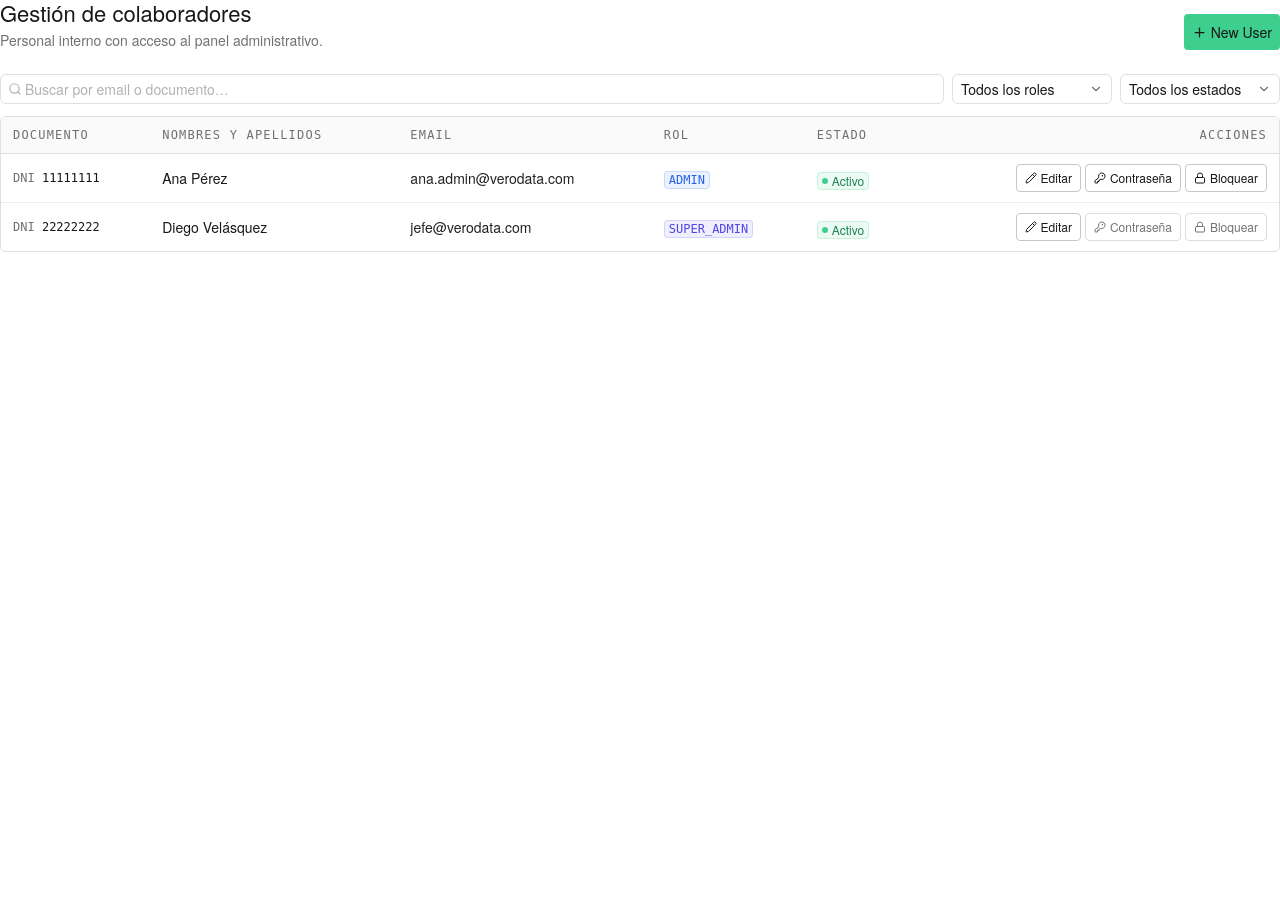
Test: UsersPage — cambio de contraseña › exige la política mínima de contraseña
Expected: the text "ana.admin@verodata.com" is shown, x1=398 y1=154 x2=652 y2=203
Click the button "Contraseña" in the row of "11111111" at (1133, 178), box x1=1085 y1=164 x2=1181 y2=192
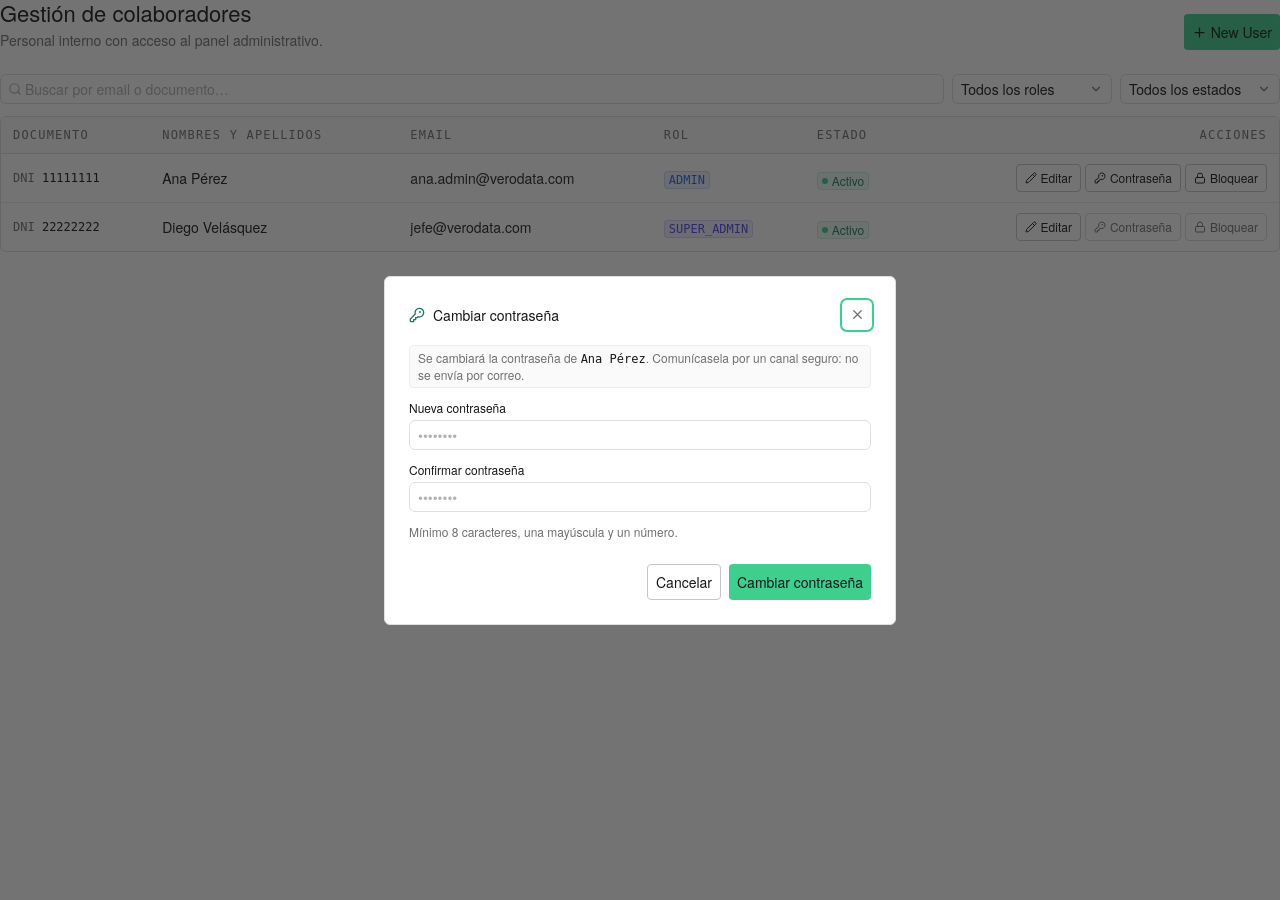
Type "debil" into the password field labelled "Nueva contraseña" at (640, 434), box x1=409 y1=420 x2=871 y2=450
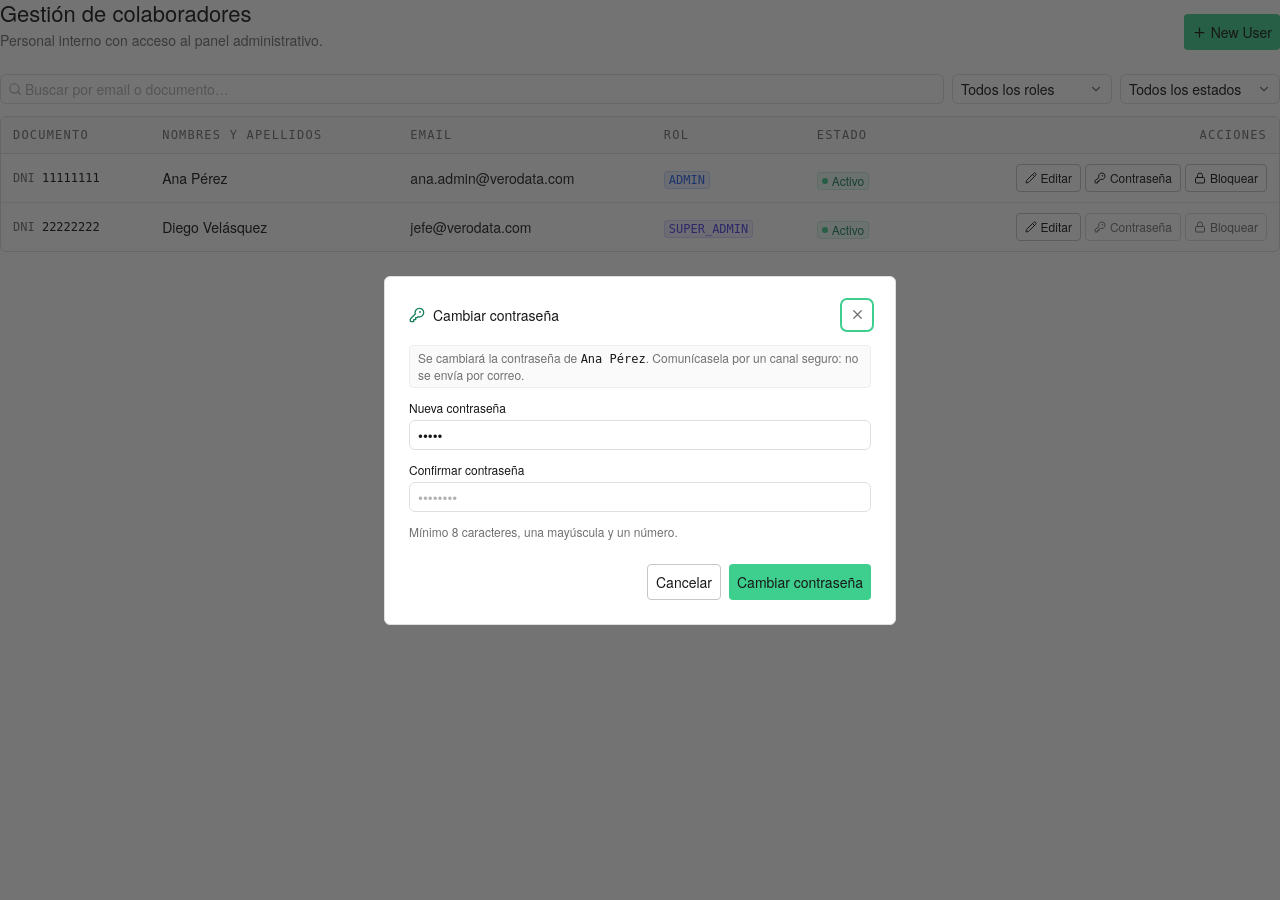
Type "debil" into the password field labelled "Confirmar contraseña" at (640, 496), box x1=409 y1=482 x2=871 y2=512
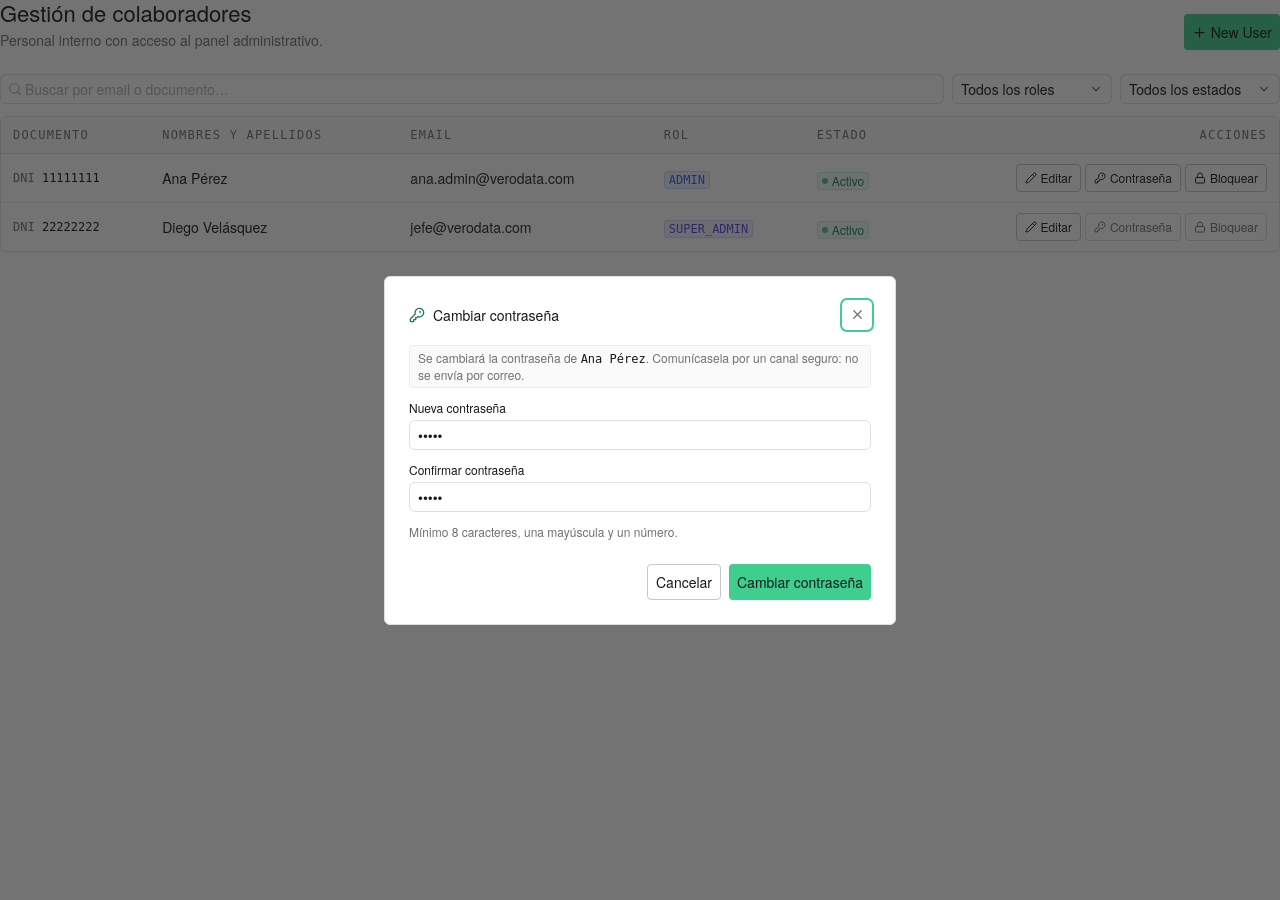
Click the button "Cambiar contraseña" at (800, 582), box x1=729 y1=564 x2=871 y2=600
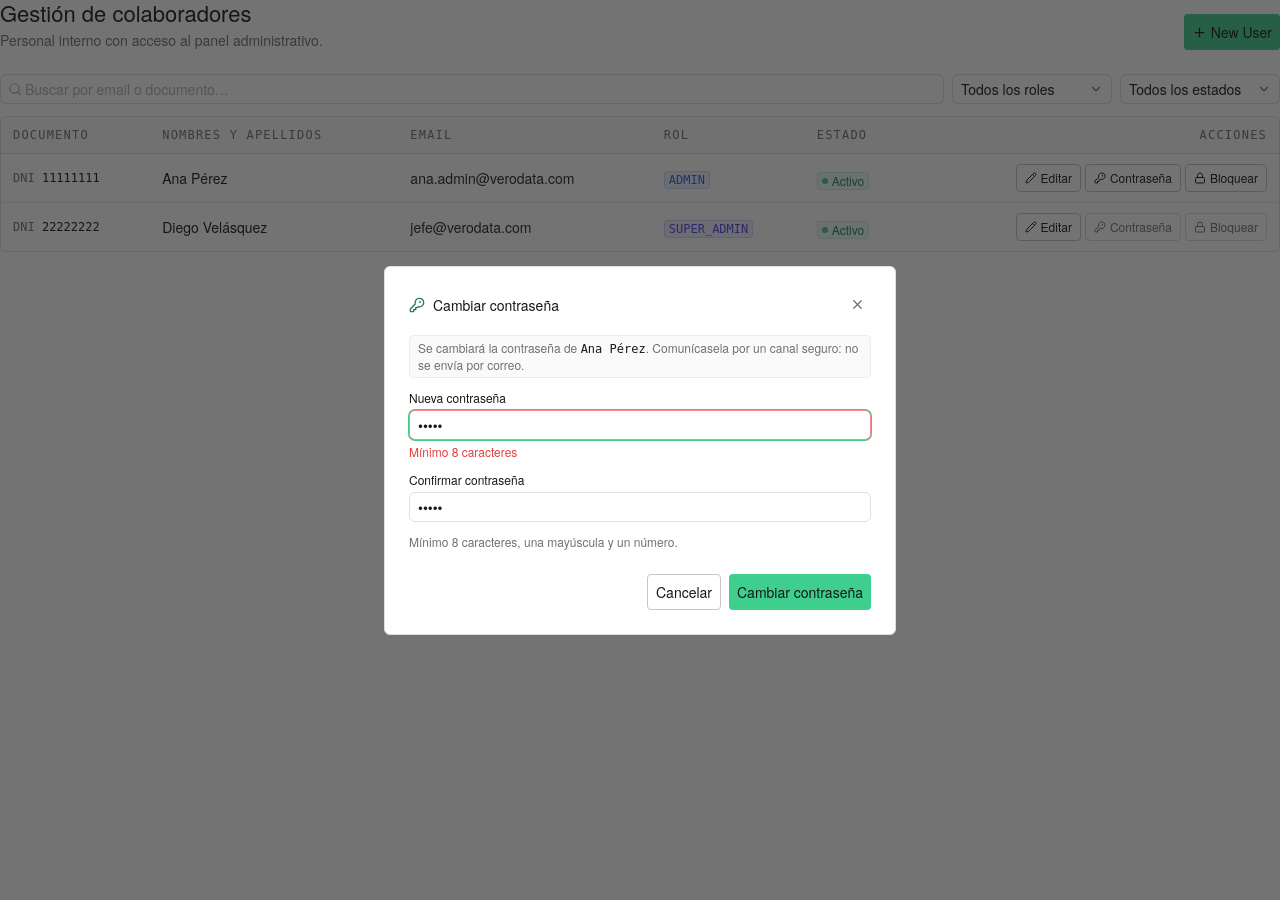
Result: the text "Mínimo 8 caracteres" is shown at x1=409 y1=442 x2=517 y2=460
